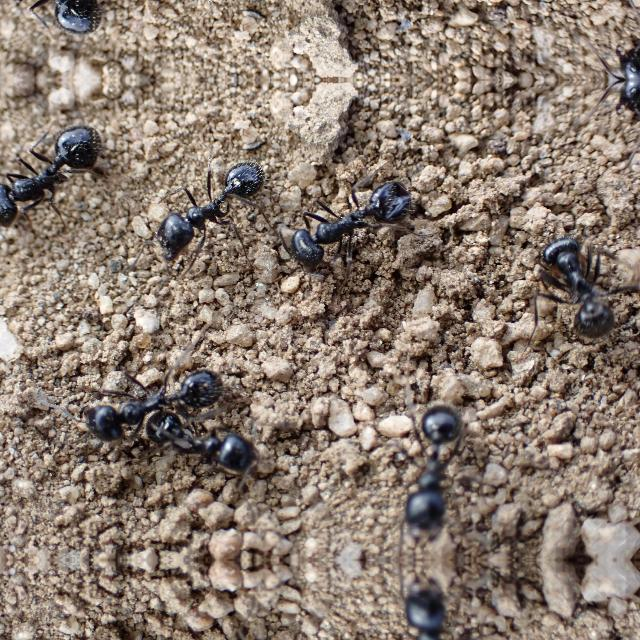Messor: (148, 134, 266, 266), (291, 159, 417, 277), (86, 349, 232, 441), (524, 228, 616, 340), (395, 400, 469, 534), (138, 402, 258, 482), (395, 585, 469, 640)
